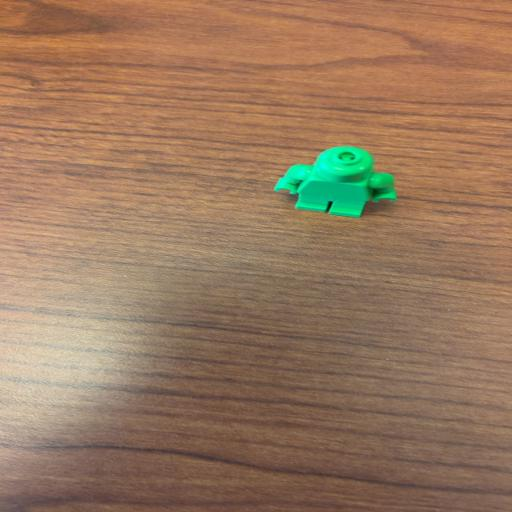UnoQ-minifig-detector: (274, 146, 396, 217)
